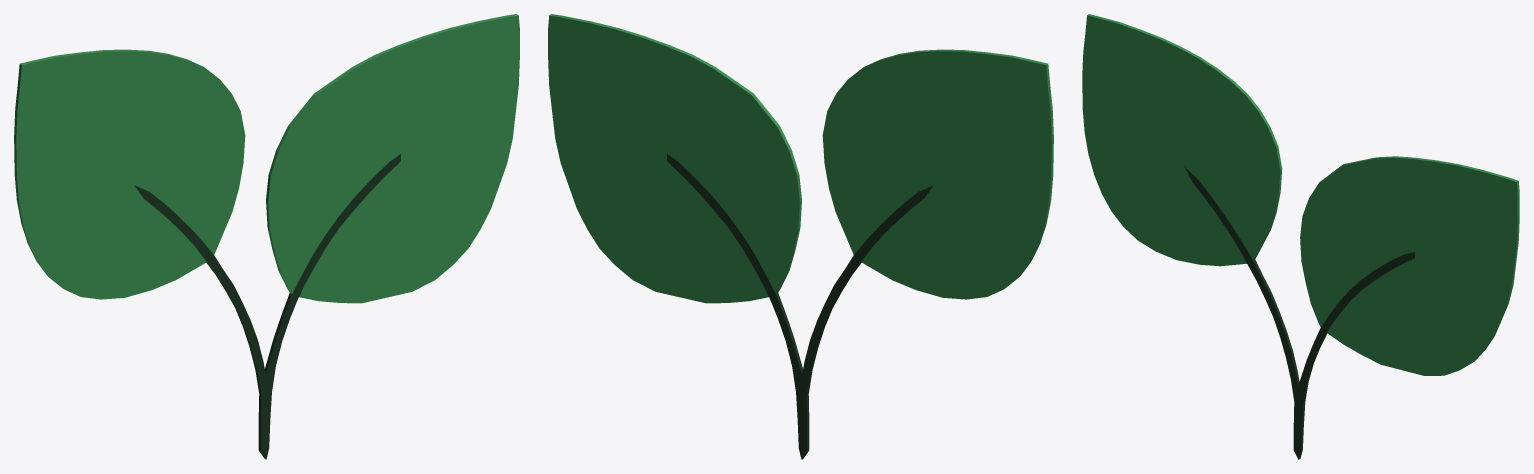
File: Earth_Pickup.fbx
3 renders of one model, left to right at view 1: azimuth 30°, elevation 25°; view 2: azimuth 150°, elevation 25°; view 3: azimuth 330°, elevation 25°, orthographic. The views are drawn at different scales.
Parts seen in each view (by area): view 1: Earth_Pickup; view 2: Earth_Pickup; view 3: Earth_Pickup.
Part boxes in pixels (left/top/right/bottom): Earth_Pickup: left=14, top=14, right=519, bottom=459; Earth_Pickup: left=548, top=14, right=1053, bottom=459; Earth_Pickup: left=1082, top=14, right=1519, bottom=459.
Size of the model in its own units: 54.23 by 46.75 by 0.4194.
